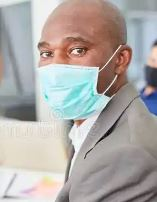with_facemask: (32, 64, 104, 118)
